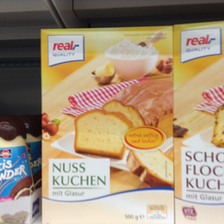cake: (39, 27, 173, 224), (173, 21, 223, 224)
